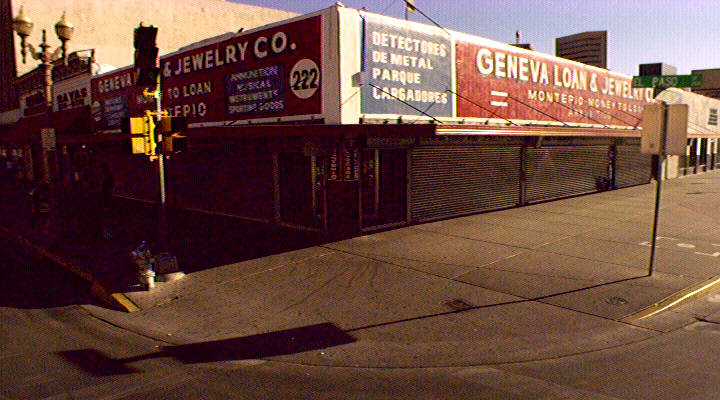Ramp: (101, 253, 703, 369)
